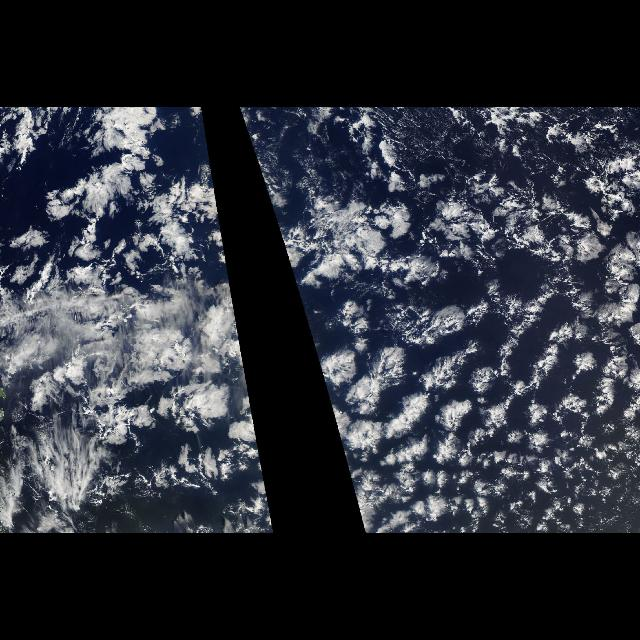Flower: (260, 174, 640, 534), (155, 174, 275, 532)
